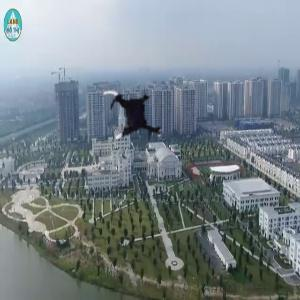drone: (92, 79, 171, 158)
